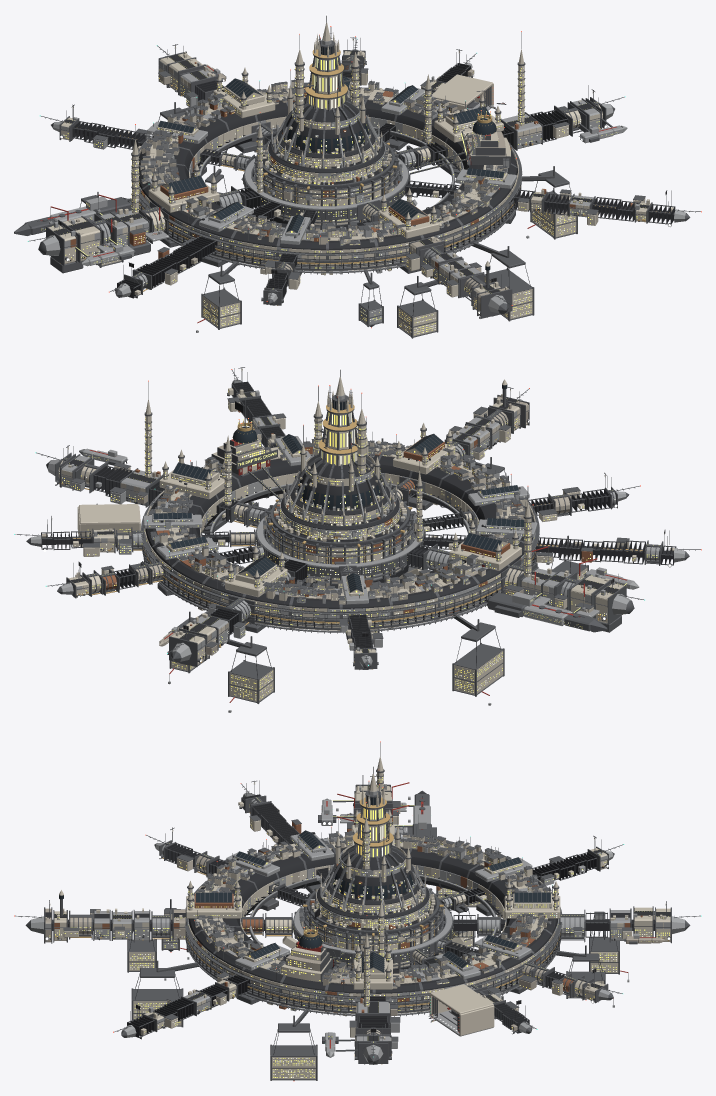
3 renders of one model, top to bottom at view 1: azimuth 30°, elevation 25°; view 2: azimuth 150°, elevation 25°; view 3: azimuth 270°, elevation 25°, orthographic. The views are drawn at different scales.
Parts seen in each view (by area): view 1: DC_arms, DC_ring, DC_core, DC_modules, DC_ships, DC_bar, DC_hangar; view 2: DC_arms, DC_ring, DC_core, DC_modules, DC_ships, DC_bar, DC_hangar; view 3: DC_arms, DC_ring, DC_core, DC_modules, DC_hangar, DC_ships, DC_bar.
Part boxes in pixels (bbox=[...]): DC_arms: bbox=[27, 31, 701, 318]; DC_ring: bbox=[131, 79, 522, 275]; DC_core: bbox=[241, 14, 417, 226]; DC_modules: bbox=[79, 102, 577, 338]; DC_ships: bbox=[14, 64, 627, 266]; DC_bar: bbox=[409, 90, 510, 174]; DC_hangar: bbox=[431, 74, 493, 110]; DC_arms: bbox=[14, 367, 701, 669]; DC_ring: bbox=[141, 432, 539, 633]; DC_core: bbox=[255, 368, 425, 584]; DC_modules: bbox=[168, 438, 588, 712]; DC_ships: bbox=[79, 448, 639, 646]; DC_bar: bbox=[211, 400, 286, 499]; DC_hangar: bbox=[77, 504, 140, 546]; DC_arms: bbox=[14, 741, 701, 1064]; DC_ring: bbox=[184, 825, 562, 1016]; DC_core: bbox=[282, 765, 463, 969]; DC_modules: bbox=[127, 849, 629, 1081]; DC_hangar: bbox=[429, 984, 494, 1036]; DC_ships: bbox=[318, 790, 664, 1057]; DC_bar: bbox=[281, 907, 344, 982].
Size of the model in its own units: 2486 by 1026 by 2559.
